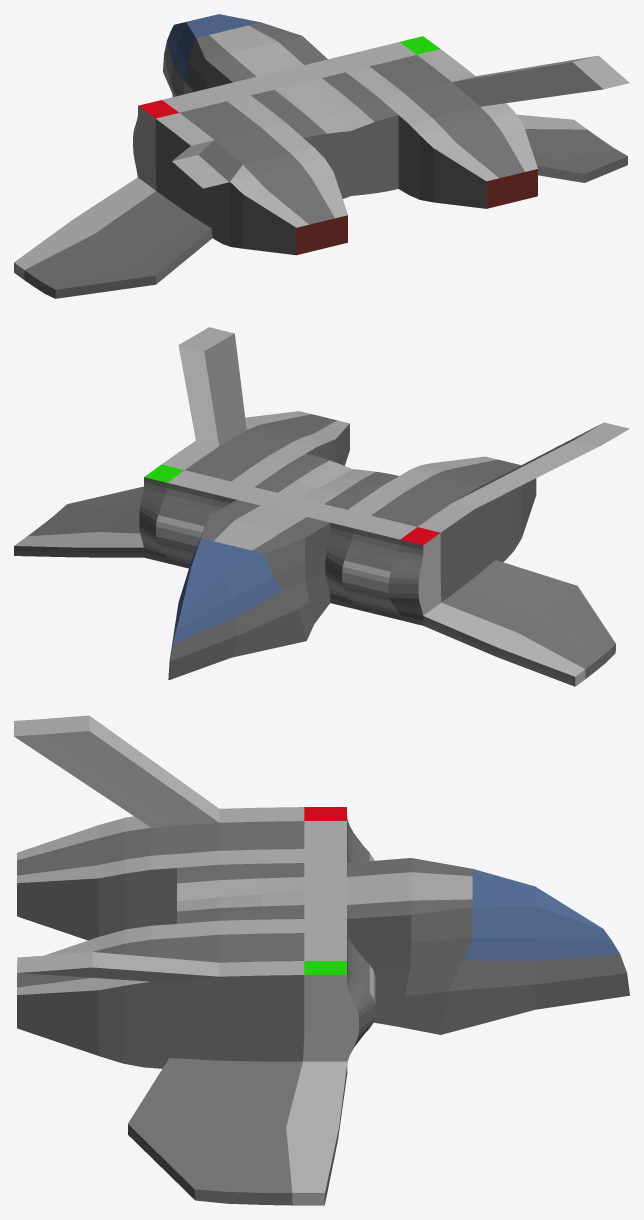
The model's file is Spaceship2.fbx.
3 views of the same model, one above another, from view 1: azimuth 30°, elevation 25°; view 2: azimuth 150°, elevation 25°; view 3: azimuth 270°, elevation 25° (orthographic). The views are drawn at different scales.
Visible parts, largest first — view 1: Cube; view 2: Cube; view 3: Cube.
Part boxes in pixels (x1,y1,x2,y2): Cube: (14,14,629,298); Cube: (14,327,629,686); Cube: (14,715,629,1205).
Size of the model in its own units: 1544 by 423 by 1205.
